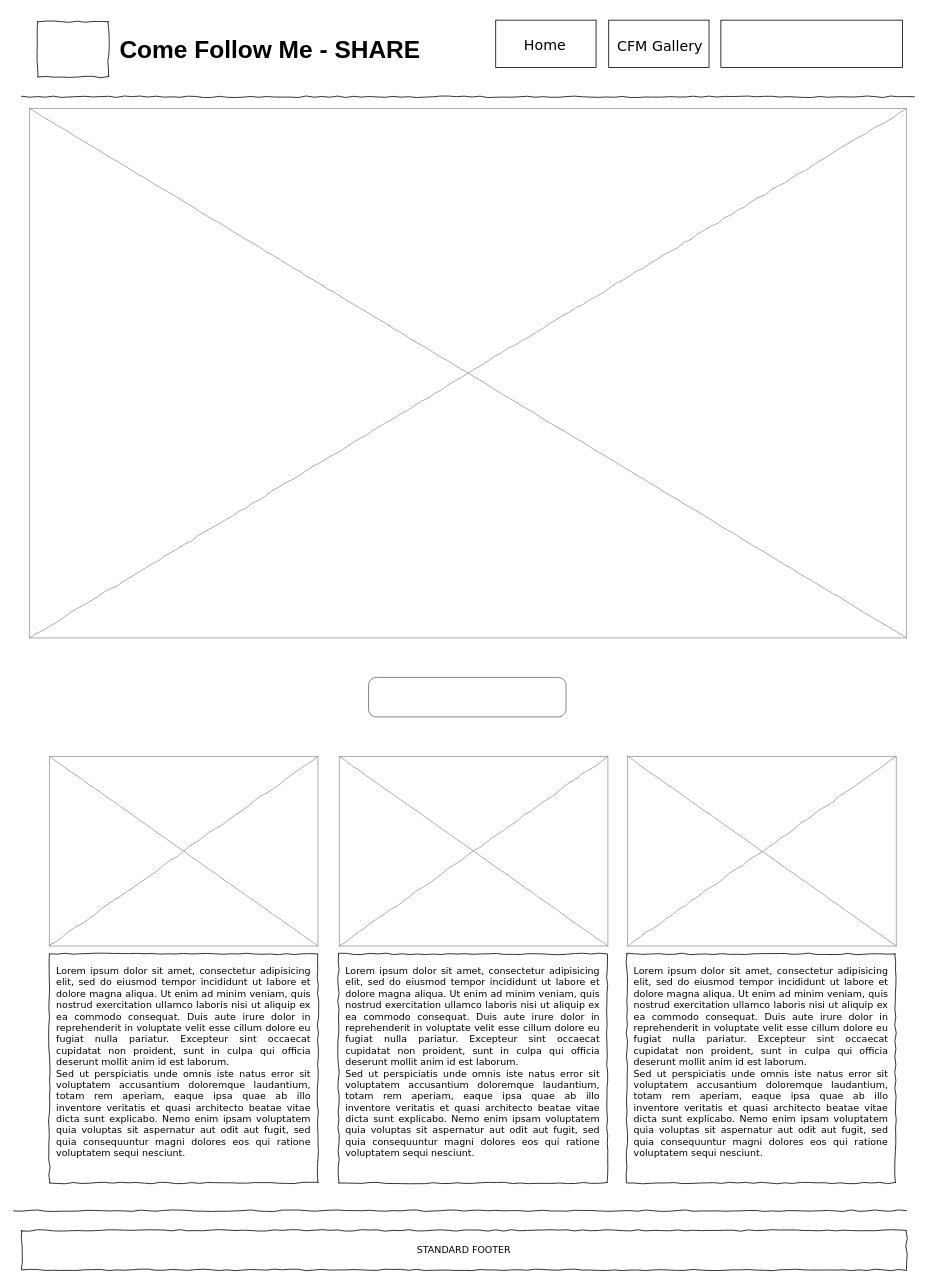
The diagram is 928 pixels wide and 1284 high, and some of its shapes have lost their labels. Each missing label, with the box of its shape:
Call to Action: (368, 677, 566, 717)
LOGO: (37, 21, 109, 77)
Share Your Thoughts: (720, 19, 903, 68)
